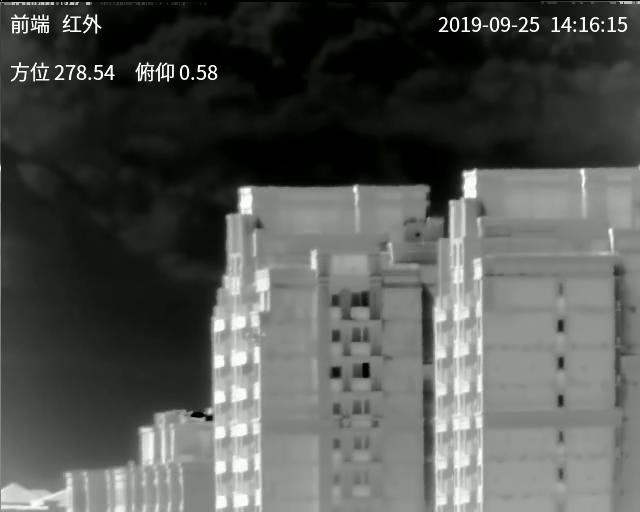uav: (242, 324, 269, 346)
